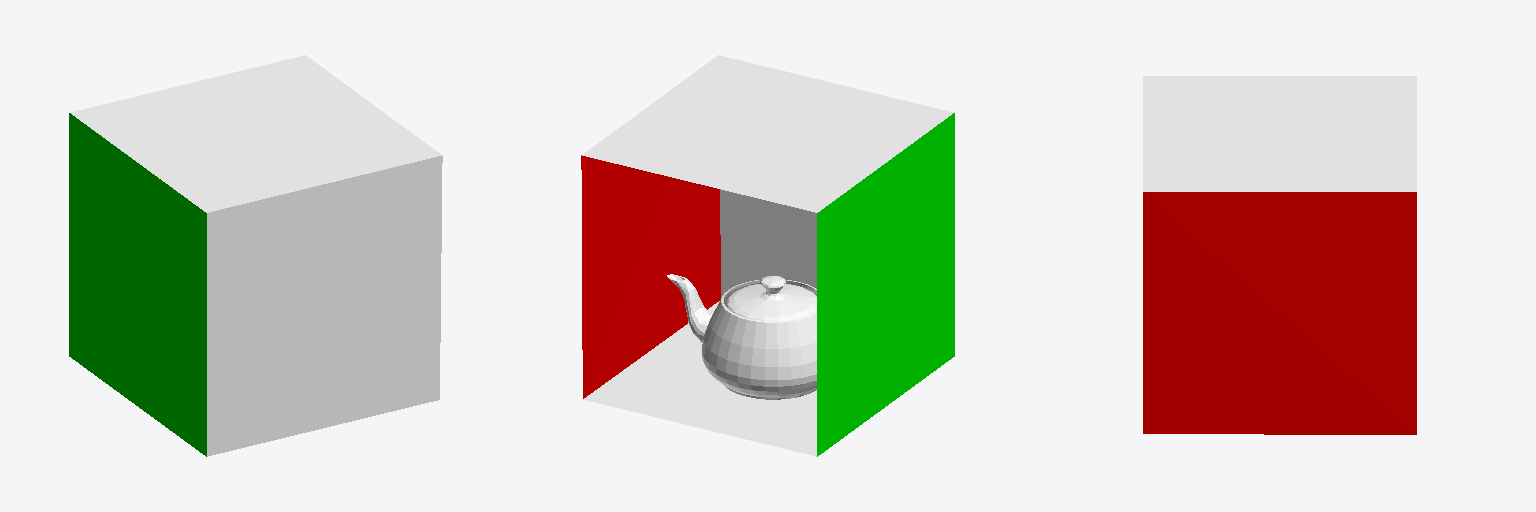
File: cornell_tess3_teapot.obj
3 views of the same model, side by side, from view 1: azimuth 30°, elevation 25°; view 2: azimuth 150°, elevation 25°; view 3: azimuth 270°, elevation 25° (orthographic).
Visible parts, largest first — view 1: back_wall, green_wall, ceiling; view 2: green_wall, ceiling, red_wall, teapot, floor, back_wall; view 3: red_wall, ceiling.
Boxes of the visible parts, x1=… form: back_wall: x1=207, y1=155, x2=442, y2=456; green_wall: x1=69, y1=113, x2=206, y2=456; ceiling: x1=70, y1=55, x2=441, y2=212; green_wall: x1=817, y1=113, x2=954, y2=456; ceiling: x1=582, y1=55, x2=953, y2=212; red_wall: x1=581, y1=155, x2=720, y2=398; teapot: x1=667, y1=274, x2=816, y2=399; floor: x1=583, y1=301, x2=816, y2=456; back_wall: x1=720, y1=189, x2=816, y2=297; red_wall: x1=1143, y1=192, x2=1416, y2=434; ceiling: x1=1143, y1=76, x2=1416, y2=191.
Bounding box in the file's own units: 556 × 549 × 559.